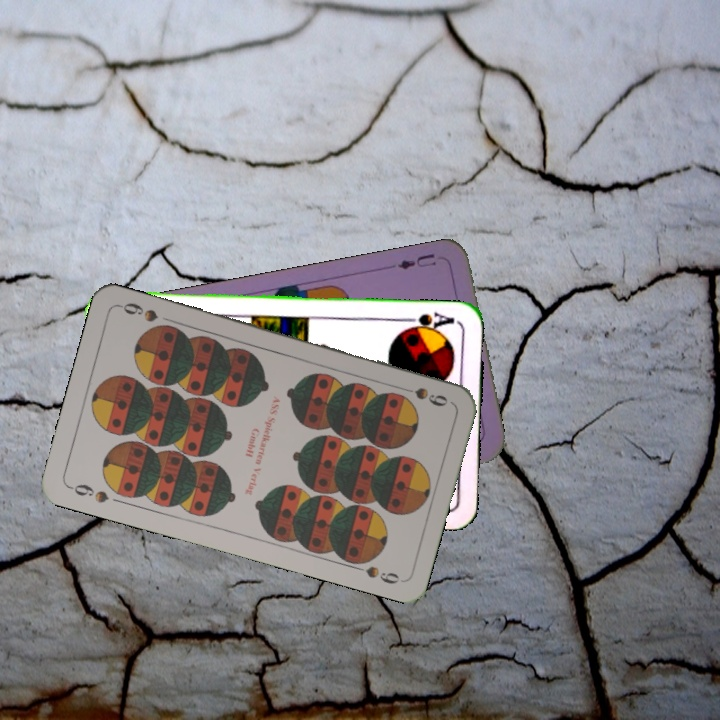EU: (393, 249, 439, 272)
S9: (394, 382, 451, 409), (65, 480, 111, 506)
SA: (398, 307, 457, 334)
